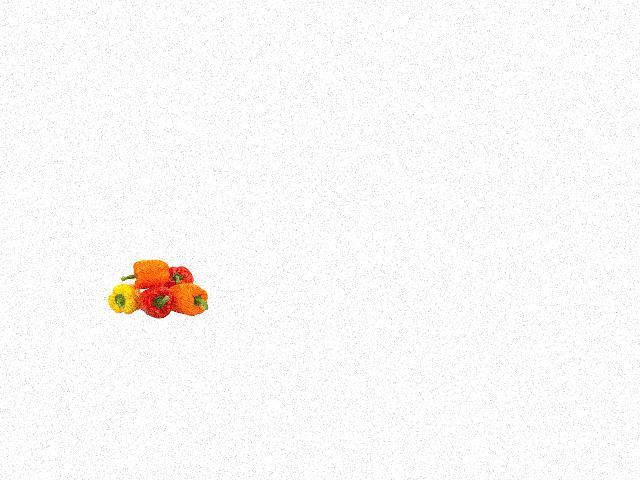bell_pepper: (167, 279, 216, 319)
